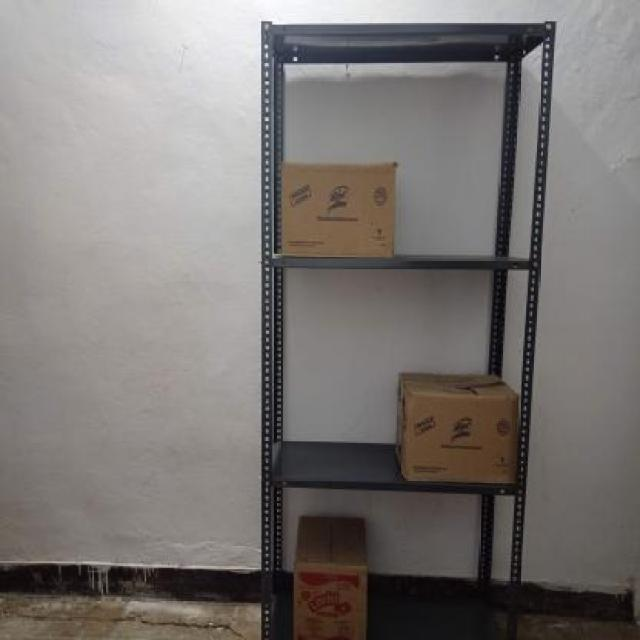box: (279, 162, 396, 261), (405, 392, 518, 485), (292, 563, 368, 640)
